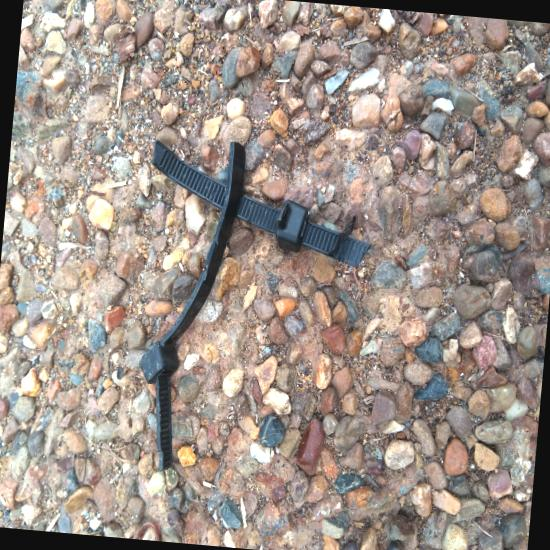Broken glass: (36, 404, 187, 543), (228, 398, 257, 459), (200, 427, 225, 491), (246, 474, 271, 532), (26, 234, 56, 269), (61, 481, 87, 514), (22, 372, 47, 405), (225, 459, 251, 483), (267, 477, 279, 521), (252, 435, 268, 467), (255, 447, 268, 474), (268, 446, 279, 477), (54, 486, 66, 506), (222, 478, 234, 498), (213, 409, 223, 433), (218, 387, 230, 406), (36, 405, 52, 419), (205, 400, 214, 421), (24, 491, 44, 500), (193, 463, 199, 489), (206, 394, 216, 408), (235, 482, 246, 492), (267, 461, 273, 477)
